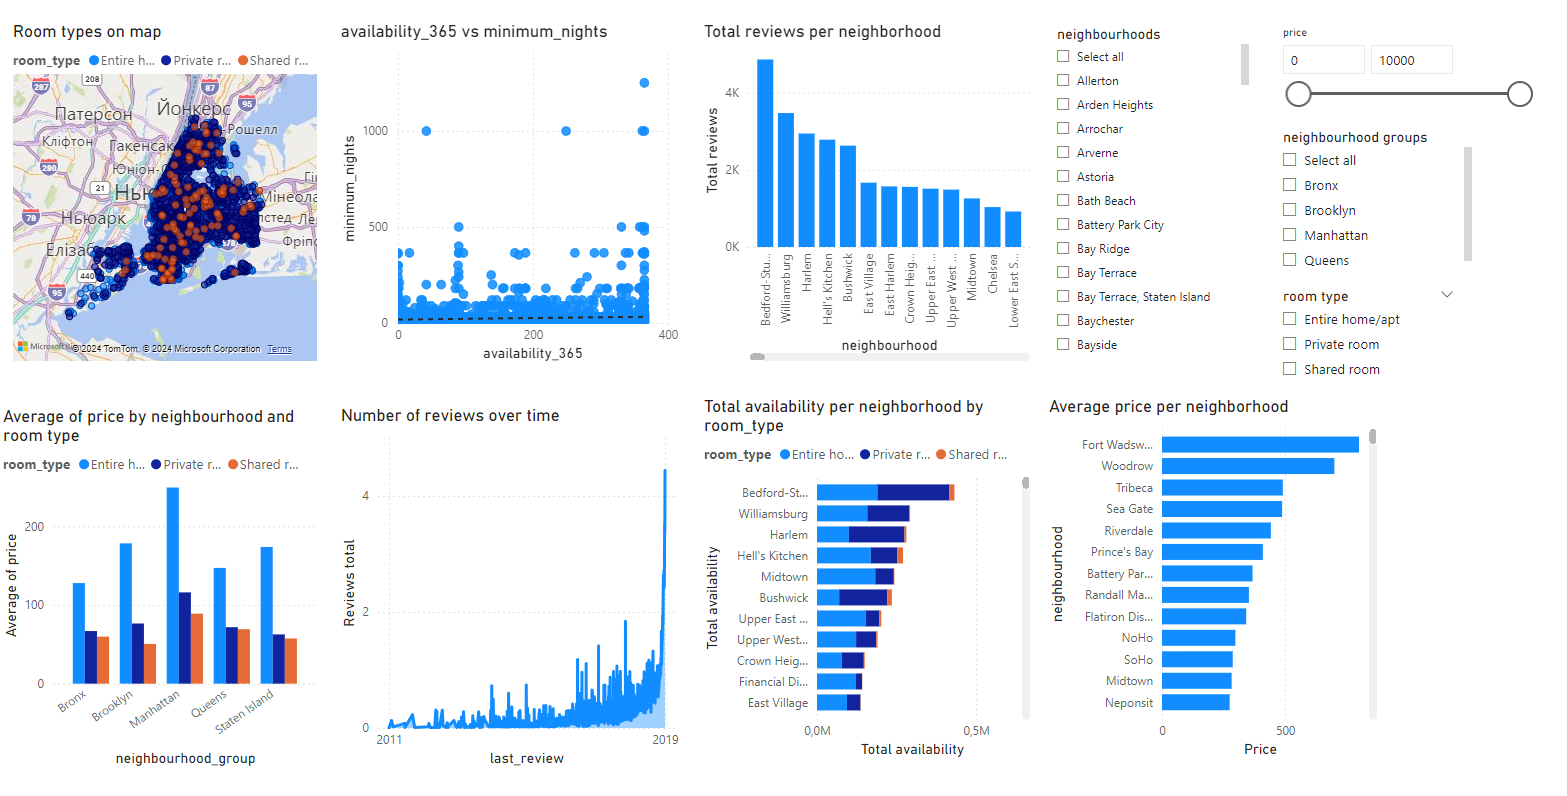

The page's visual inventory and layout, read from the dashboard file:
{"tool":"powerbi","page":{"name":"Page 1","canvas":[1600,1020],"ordinal":0},"visuals":[{"type":"map","title":"Room types on map","fields":{"Y":["AB_NYC_2019.latitude"],"X":["AB_NYC_2019.longitude"],"Series":["AB_NYC_2019.room_type"]},"box":[10,24,314,345],"z":0},{"type":"scatterChart","title":"availability_365 vs minimum_nights","fields":{"Y":["AB_NYC_2019.minimum_nights"],"X":["AB_NYC_2019.availability_365"]},"box":[338,24,347,345],"z":2000},{"type":"areaChart","title":"Number of reviews over time","fields":{"Category":["AB_NYC_2019.last_review"],"Y":["Avg(AB_NYC_2019.reviews_per_month)"]},"box":[338,408,347,366],"z":3000},{"type":"slicer","fields":{"Values":["AB_NYC_2019.neighbourhood"]},"box":[1046,24,210,345],"z":6000},{"type":"slicer","fields":{"Values":["AB_NYC_2019.neighbourhood_group"]},"box":[1272,127,207,159],"z":7000},{"type":"barChart","title":"Average price per neighborhood","fields":{"Category":["AB_NYC_2019.neighbourhood"],"Y":["AB_NYC_2019.AvgPricePerNeighborhood2"]},"box":[1046,399,338,366],"z":8000},{"type":"slicer","fields":{"Values":["AB_NYC_2019.room_type"]},"box":[1272,286,196,106],"z":9000},{"type":"slicer","fields":{"Values":["AB_NYC_2019.price"]},"box":[1272,24,271,103],"z":10000},{"type":"clusteredColumnChart","title":"Average of price by neighbourhood and room type","fields":{"Y":["Avg(AB_NYC_2019.price)"],"Series":["AB_NYC_2019.room_type"],"Category":["AB_NYC_2019.neighbourhood_group","AB_NYC_2019.neighbourhood"]},"box":[0,409,324,365],"z":10001},{"type":"columnChart","title":"Total reviews per neighborhood","fields":{"Category":["AB_NYC_2019.neighbourhood"],"Y":["Sum(AB_NYC_2019.reviews_per_month)"]},"box":[701,24,336,345],"z":10002},{"type":"barChart","title":"Total availability per neighborhood by room_type","fields":{"Category":["AB_NYC_2019.neighbourhood"],"Y":["Sum(AB_NYC_2019.availability_365)"],"Series":["AB_NYC_2019.room_type"]},"box":[701,399,336,366],"z":10003}]}

Visuals, with their boxes on the page's 1600x1020 design canvas (x1, y1, x2, y2). These are canvas units, not pixel positions in the 1567x796 screenshot, which may show the page scaled, cropped or inside an application window:
"Room types on map" map: {"x1": 10, "y1": 24, "x2": 324, "y2": 369}
"availability_365 vs minimum_nights" scatterChart: {"x1": 338, "y1": 24, "x2": 685, "y2": 369}
"Number of reviews over time" areaChart: {"x1": 338, "y1": 408, "x2": 685, "y2": 774}
slicer - AB_NYC_2019.neighbourhood: {"x1": 1046, "y1": 24, "x2": 1256, "y2": 369}
slicer - AB_NYC_2019.neighbourhood_group: {"x1": 1272, "y1": 127, "x2": 1479, "y2": 286}
"Average price per neighborhood" barChart: {"x1": 1046, "y1": 399, "x2": 1384, "y2": 765}
slicer - AB_NYC_2019.room_type: {"x1": 1272, "y1": 286, "x2": 1468, "y2": 392}
slicer - AB_NYC_2019.price: {"x1": 1272, "y1": 24, "x2": 1543, "y2": 127}
"Average of price by neighbourhood and room type" clusteredColumnChart: {"x1": 0, "y1": 409, "x2": 324, "y2": 774}
"Total reviews per neighborhood" columnChart: {"x1": 701, "y1": 24, "x2": 1037, "y2": 369}
"Total availability per neighborhood by room_type" barChart: {"x1": 701, "y1": 399, "x2": 1037, "y2": 765}
